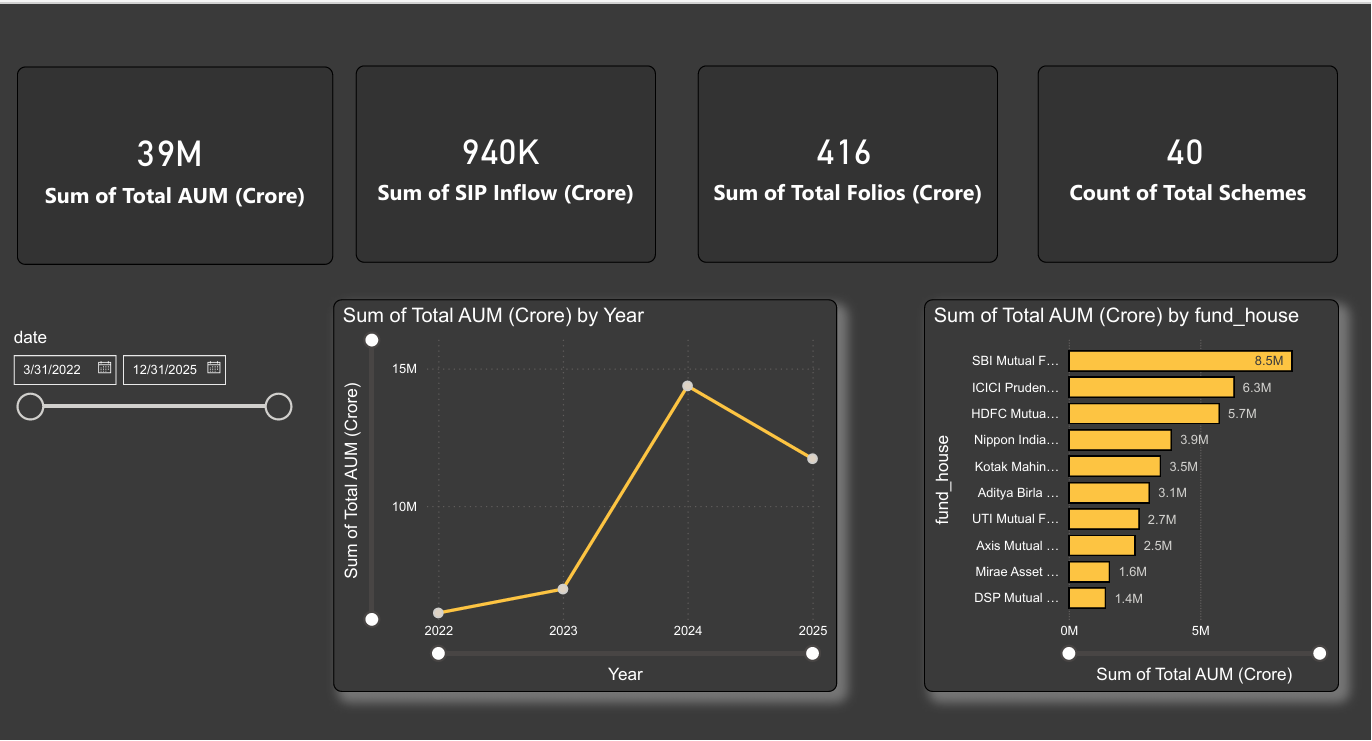

The page's visual inventory and layout, read from the dashboard file:
{"tool":"powerbi","page":{"name":"Industry Overview","canvas":[1280,720],"ordinal":0},"visuals":[{"type":"advanceCardE03760C5AB684758B56AA29F9E6C257B","fields":{"mainMeasure":["Sum(03_aum_by_fund_house.aum_crore)"]},"box":[15.9,91.6,294.8,185.2],"z":0},{"type":"advanceCardE03760C5AB684758B56AA29F9E6C257B","fields":{"mainMeasure":["Sum(04_monthly_sip_inflows.sip_inflow_crore)"]},"box":[331.9,90.7,280.1,184.6],"z":1000},{"type":"advanceCardE03760C5AB684758B56AA29F9E6C257B","fields":{"mainMeasure":["Sum(06_industry_folio_count.total_folios_crore)"]},"box":[650.9,90.7,280.1,184.6],"z":2000},{"type":"advanceCardE03760C5AB684758B56AA29F9E6C257B","fields":{"mainMeasure":["CountNonNull(01_fund_master.amfi_code)"]},"box":[968.3,90.7,280.1,184.6],"z":3000},{"type":"lineChart","fields":{"Category":["03_aum_by_fund_house.date.Variation.Date Hierarchy.Year","03_aum_by_fund_house.date.Variation.Date Hierarchy.Quarter","03_aum_by_fund_house.date.Variation.Date Hierarchy.Month","03_aum_by_fund_house.date.Variation.Date Hierarchy.Day"],"Y":["Sum(03_aum_by_fund_house.aum_crore)"]},"box":[310.7,308.7,470,366.5],"z":4000},{"type":"clusteredBarChart","fields":{"Category":["03_aum_by_fund_house.fund_house"],"Y":["Sum(03_aum_by_fund_house.aum_crore)"]},"box":[862.4,308.7,386.4,366.5],"z":5000},{"type":"slicer","fields":{"Values":["03_aum_by_fund_house.date"]},"box":[0,330.6,280.8,254.9],"z":6000}]}

Visuals, with their boxes on the page's 1280x720 design canvas (x1, y1, x2, y2). These are canvas units, not pixel positions in the 1372x741 screenshot, which may show the page scaled, cropped or inside an application window:
advanceCardE03760C5AB684758B56AA29F9E6C257B - Sum(03_aum_by_fund_house.aum_crore): <box>16,92,311,277</box>
advanceCardE03760C5AB684758B56AA29F9E6C257B - Sum(04_monthly_sip_inflows.sip_inflow_crore): <box>332,91,612,275</box>
advanceCardE03760C5AB684758B56AA29F9E6C257B - Sum(06_industry_folio_count.total_folios_crore): <box>651,91,931,275</box>
advanceCardE03760C5AB684758B56AA29F9E6C257B - CountNonNull(01_fund_master.amfi_code): <box>968,91,1248,275</box>
lineChart - 03_aum_by_fund_house.date.Variation.Date Hierarchy.Year x 03_aum_by_fund_house.date.Variation.Date Hierarchy.Quarter: <box>311,309,781,675</box>
clusteredBarChart - 03_aum_by_fund_house.fund_house x Sum(03_aum_by_fund_house.aum_crore): <box>862,309,1249,675</box>
slicer - 03_aum_by_fund_house.date: <box>0,331,281,586</box>
